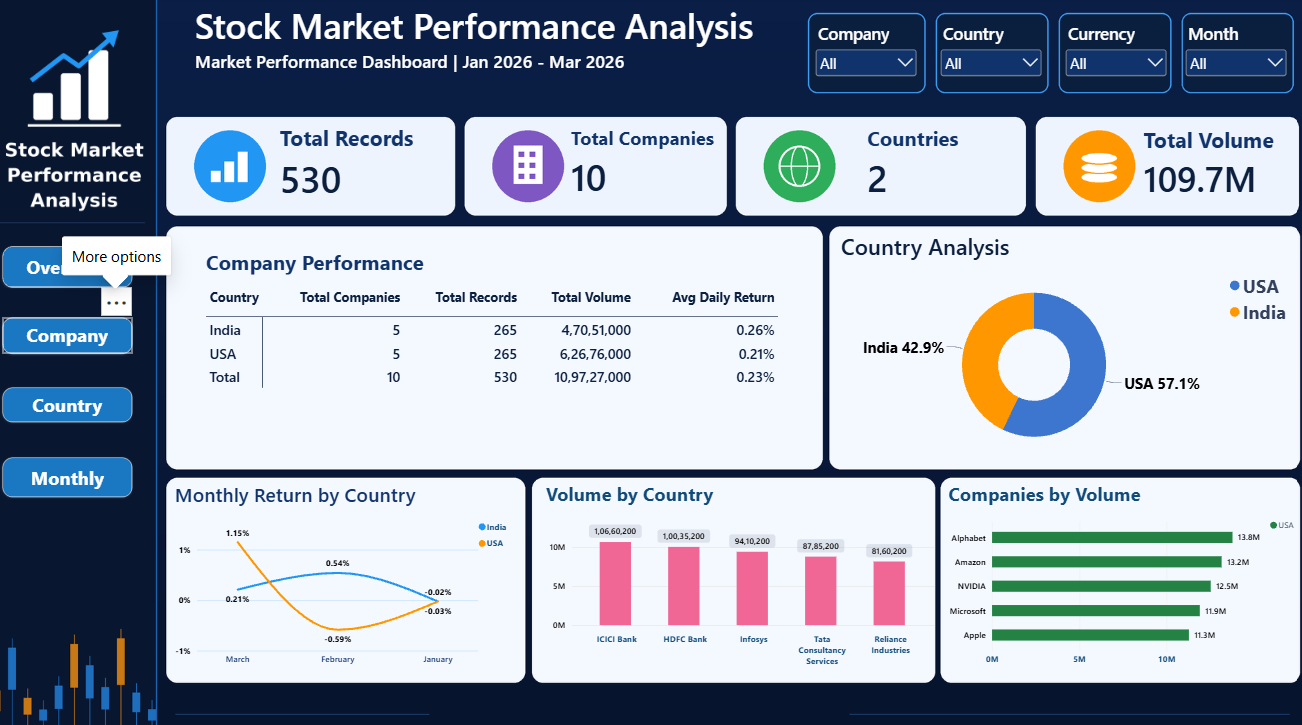

Layout of this report page (visuals, bound fields, positions):
{"tool":"powerbi","page":{"name":"Country","canvas":[1920,1080],"ordinal":2},"visuals":[{"type":"slicer","fields":{"Values":["Stock_Clean.Company"]},"box":[1198,39.8,155.6,105],"z":0},{"type":"slicer","fields":{"Values":["Stock_Clean.Country"]},"box":[1379,39.8,155.6,105],"z":1000},{"type":"slicer","fields":{"Values":["Stock_Clean.Currency"]},"box":[1559.9,39.8,155.6,105],"z":2000},{"type":"slicer","fields":{"Values":["Stock_Clean.Month "]},"box":[1733.7,39.8,155.6,105],"z":3000},{"type":"cardVisual","fields":{"Data":["Stock_Clean.Total Records"]},"box":[410.8,161.1,316.7,166.5],"z":4000},{"type":"cardVisual","fields":{"Data":["Stock_Clean.Total Companies"]},"box":[832.4,161.1,316.7,166.5],"z":5000},{"type":"cardVisual","fields":{"Data":["Stock_Clean.Total Countries"]},"box":[1261.3,161.1,316.7,166.5],"z":6000},{"type":"cardVisual","fields":{"Data":["Stock_Clean.Total Volume"]},"box":[1661.3,161.1,258.8,166.5],"z":7000},{"type":"donutChart","title":"Country Analysis","fields":{"Category":["Stock_Clean.Country"],"Y":["Stock_Clean.Total Volume"]},"box":[1223.3,327.5,685.9,358.3],"z":8000},{"type":"pivotTable","title":"Company Performance","fields":{"Rows":["Stock_Clean.Country"],"Values":["Stock_Clean.Total Companies","Stock_Clean.Total Records","Stock_Clean.Total Volume","Stock_Clean.Avg Daily Return"]},"box":[304,351.1,861.4,334.8],"z":9000},{"type":"lineChart","title":"Monthly Return by Country","fields":{"Category":["Stock_Clean.Month "],"Series":["Stock_Clean.Country"],"Y":["Stock_Clean.Avg Daily Return"]},"box":[258.8,689.5,521.2,300.4],"z":10000},{"type":"clusteredBarChart","title":"Companies by Volume","fields":{"Category":["Stock_Clean.Company"],"Series":["Stock_Clean.Country"],"Y":["Stock_Clean.Total Volume"]},"box":[1379,689.5,541.1,300.4],"z":11000},{"type":"clusteredColumnChart","title":"Volume by Country","fields":{"Category":["Stock_Clean.Company"],"Y":["Stock_Clean.Total Volume"]},"box":[796.3,689.5,595.4,300.4],"z":12000},{"type":"textbox","title":"Stock Market Performance Analysis","box":[304,9,850.5,164.7],"z":13000},{"type":"image","box":[0,18.1,258.8,345.6],"z":14000},{"type":"actionButton","box":[25.3,363.7,188.2,59.7],"z":18001},{"type":"actionButton","box":[25.3,466.9,188.2,52.5],"z":18002},{"type":"actionButton","box":[25.3,568.2,188.2,50.7],"z":18003},{"type":"actionButton","box":[25.3,669.6,188.2,57.9],"z":18004}]}

Visuals, with their boxes on the page's 1920x1080 design canvas (x1, y1, x2, y2). These are canvas units, not pixel positions in the 1302x725 screenshot, which may show the page scaled, cropped or inside an application window:
slicer - Stock_Clean.Company: 1198,40,1354,145
slicer - Stock_Clean.Country: 1379,40,1535,145
slicer - Stock_Clean.Currency: 1560,40,1716,145
slicer - Stock_Clean.Month : 1734,40,1889,145
cardVisual - Stock_Clean.Total Records: 411,161,728,328
cardVisual - Stock_Clean.Total Companies: 832,161,1149,328
cardVisual - Stock_Clean.Total Countries: 1261,161,1578,328
cardVisual - Stock_Clean.Total Volume: 1661,161,1920,328
"Country Analysis" donutChart: 1223,328,1909,686
"Company Performance" pivotTable: 304,351,1165,686
"Monthly Return by Country" lineChart: 259,690,780,990
"Companies by Volume" clusteredBarChart: 1379,690,1920,990
"Volume by Country" clusteredColumnChart: 796,690,1392,990
"Stock Market Performance Analysis" textbox: 304,9,1154,174
image: 0,18,259,364
actionButton: 25,364,214,423
actionButton: 25,467,214,519
actionButton: 25,568,214,619
actionButton: 25,670,214,728
